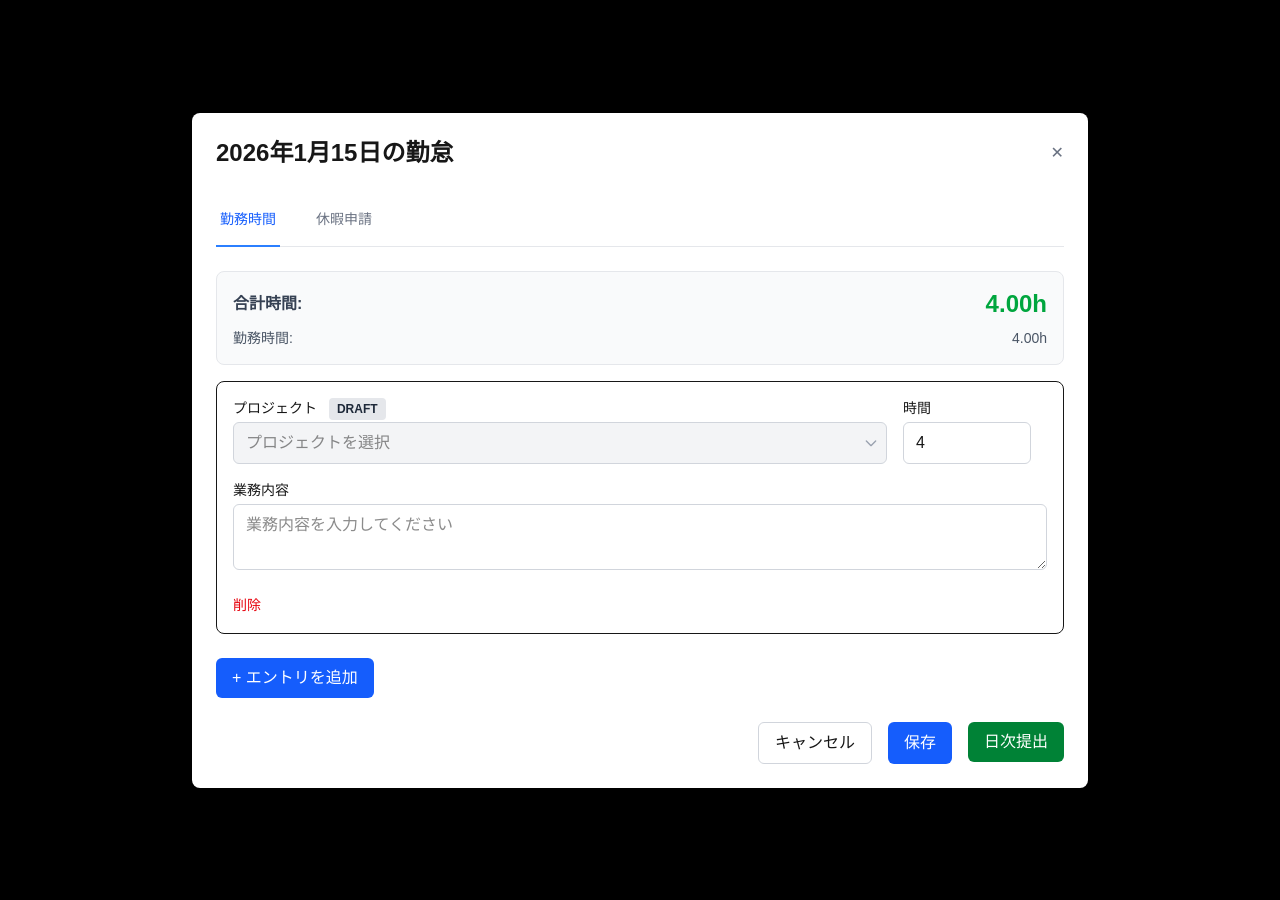
Scenario: DailyEntryForm › Error Handling › should handle optimistic lock error (409 Conflict)
Clear the number field showing "4" at {"x": 967, "y": 442}, box top-left (903, 422), bottom-right (1031, 464)
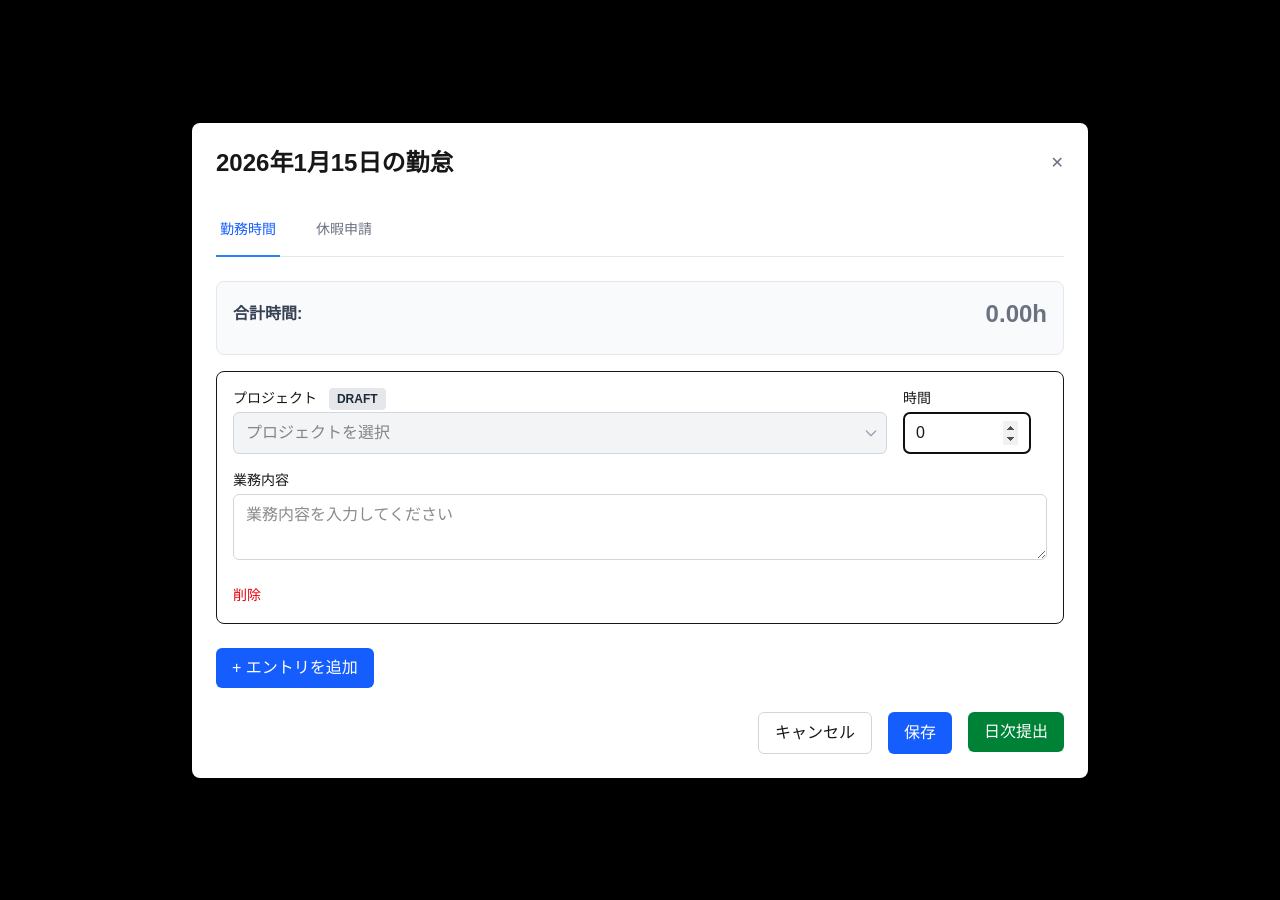
Type "6" into the number field showing "4" at {"x": 967, "y": 432}, box top-left (903, 412), bottom-right (1031, 454)
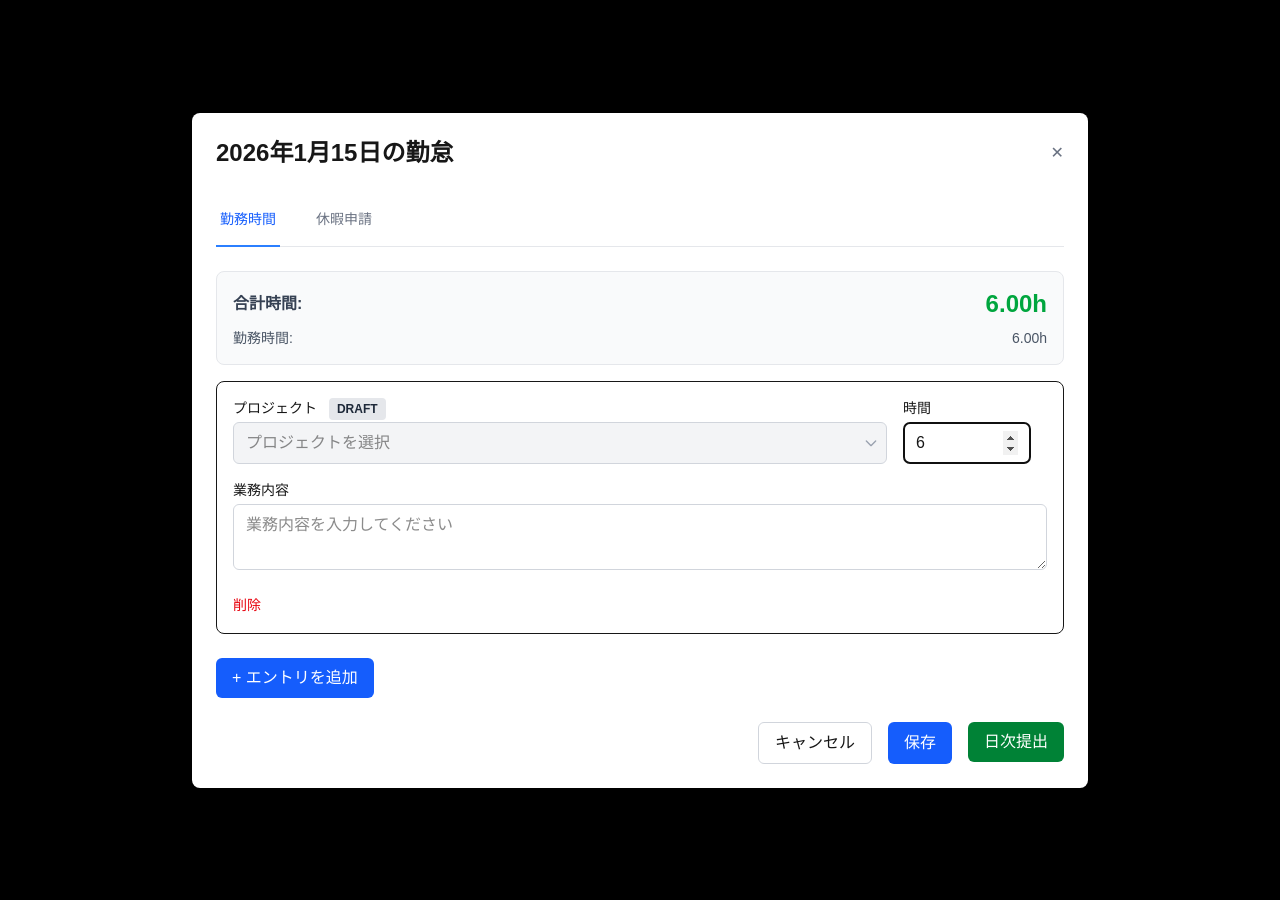
Click the button "保存" at {"x": 920, "y": 742}, box top-left (888, 722), bottom-right (952, 764)
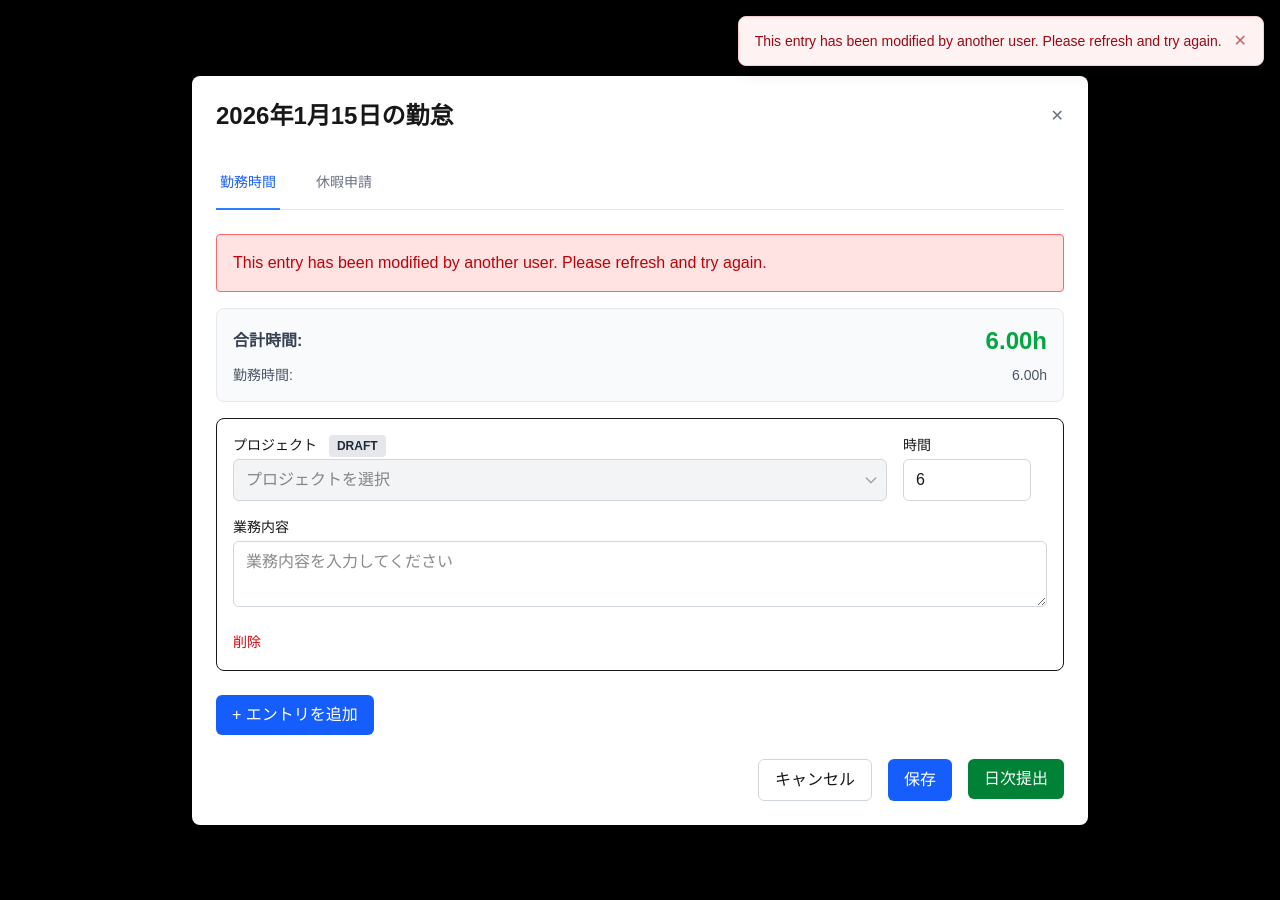
Check: the text "This entry has been modified by another user. Please refresh and try again." is shown, box top-left (216, 234), bottom-right (1064, 292)
